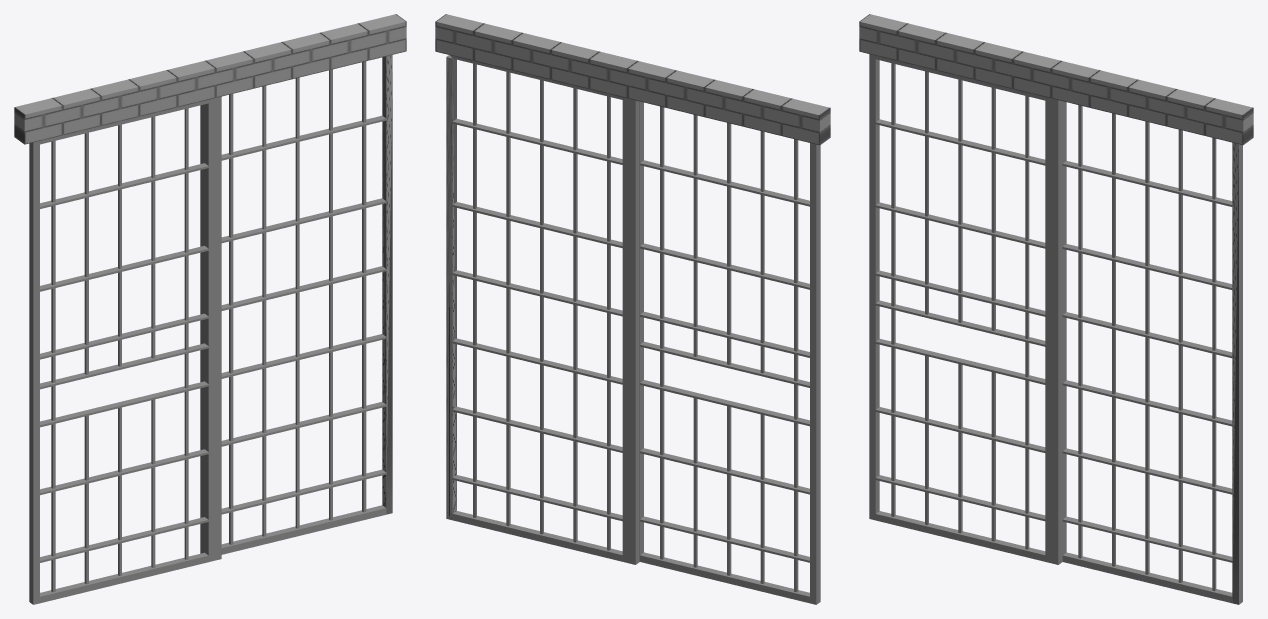
File: PrisonGate.fbx
3 renders of one model, left to right at view 1: azimuth 30°, elevation 25°; view 2: azimuth 150°, elevation 25°; view 3: azimuth 330°, elevation 25°, orthographic.
Parts seen in each view (by area): view 1: Jail_Door; view 2: Jail_Door; view 3: Jail_Door.
Boxes of the visible parts, bbox=[...] form: Jail_Door: bbox=[14, 14, 406, 604]; Jail_Door: bbox=[435, 14, 830, 604]; Jail_Door: bbox=[859, 14, 1253, 604].
Bounding box in the file's own units: 2.1 × 2.59 × 0.0988.
